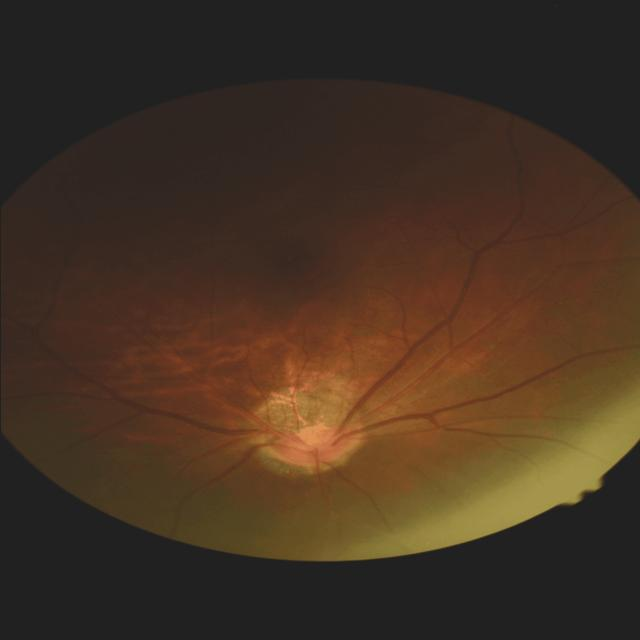cup: (280, 430, 334, 452)
disk: (268, 426, 360, 466)
